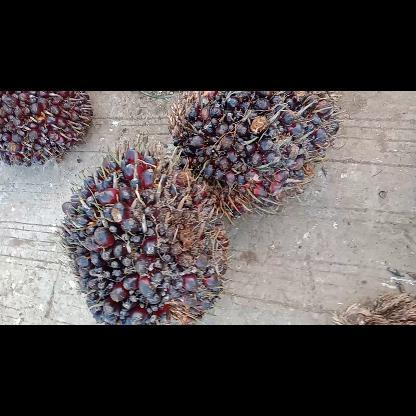TBS mentah: (58, 146, 226, 322), (168, 91, 340, 216), (0, 90, 92, 166)
